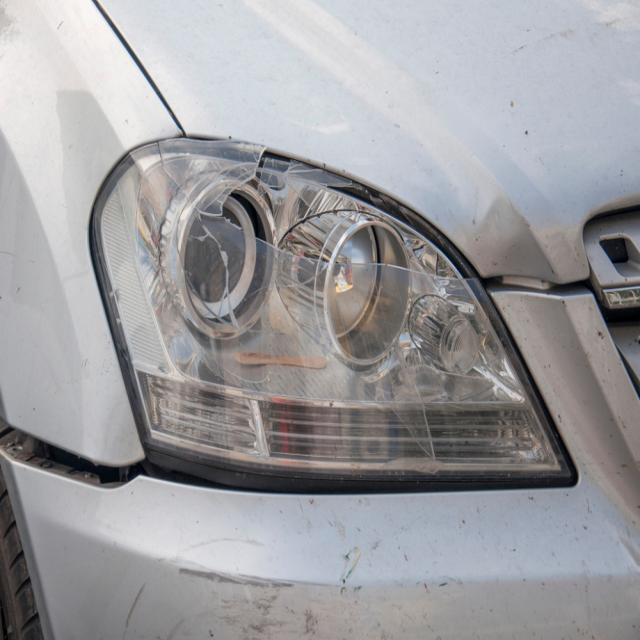lamp broken: (94, 139, 577, 494)
scratch: (113, 527, 349, 640)
